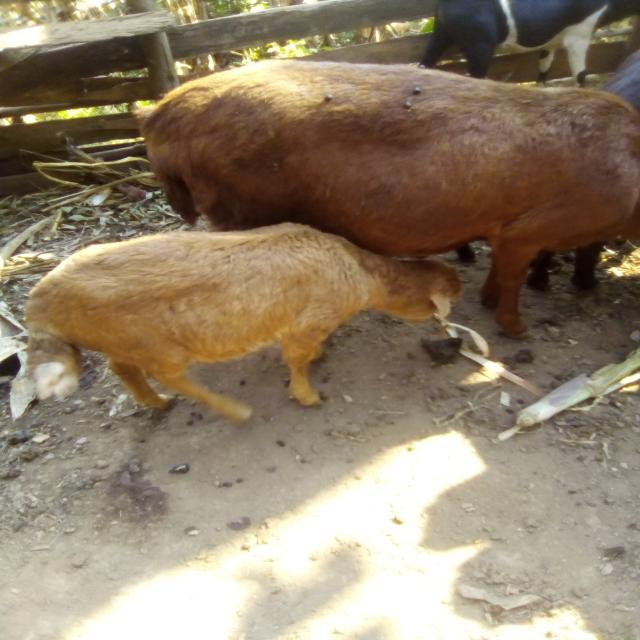sheep: (0, 210, 513, 441)
